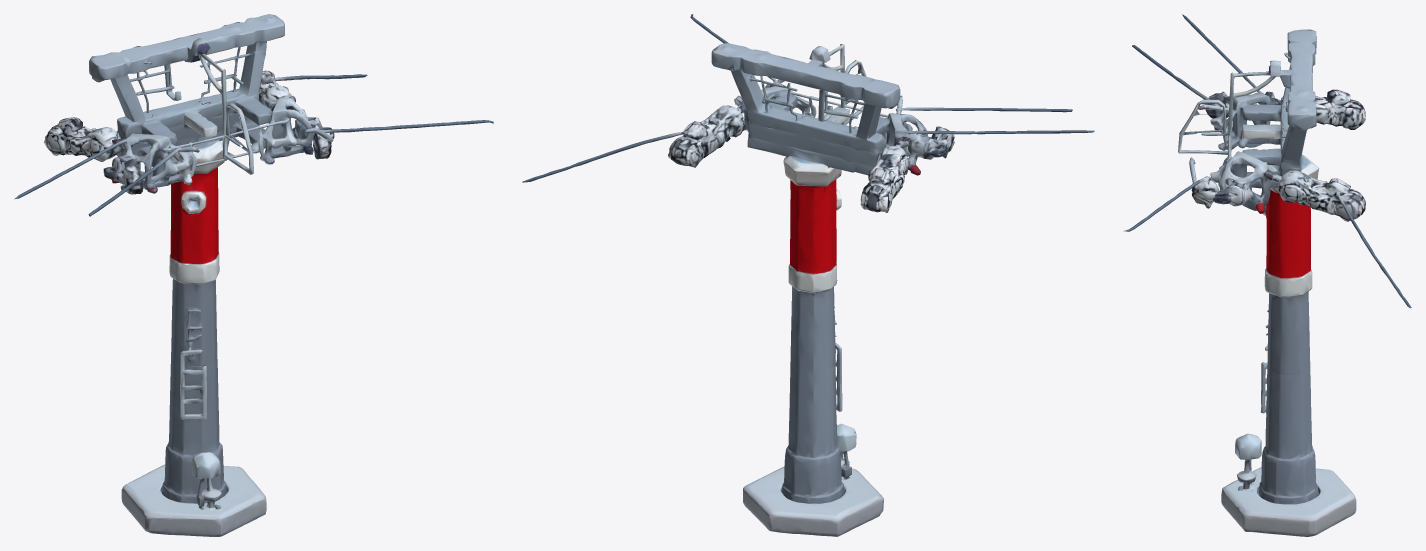
Rendered from pylon_raw.glb.
3 renders of one model, left to right at view 1: azimuth 30°, elevation 25°; view 2: azimuth 150°, elevation 25°; view 3: azimuth 270°, elevation 25°, orthographic. The views are drawn at different scales.
Visible parts, largest first — view 1: tripo_node_08cea5f6-5e7f-4bc0-911e-945690641e67; view 2: tripo_node_08cea5f6-5e7f-4bc0-911e-945690641e67; view 3: tripo_node_08cea5f6-5e7f-4bc0-911e-945690641e67.
Boxes of the visible parts, box(x1,y1,x2,y2) form: tripo_node_08cea5f6-5e7f-4bc0-911e-945690641e67: box(14, 14, 493, 536); tripo_node_08cea5f6-5e7f-4bc0-911e-945690641e67: box(522, 14, 1094, 536); tripo_node_08cea5f6-5e7f-4bc0-911e-945690641e67: box(1123, 14, 1411, 536).
Bounding box in the file's own units: 1 × 0.9582 × 0.5582.
Materials: 1 (1 with a texture image).
